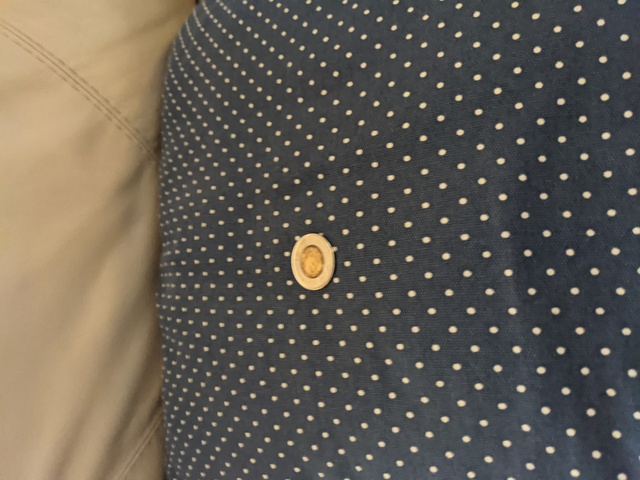twonie: (285, 232, 361, 293)
